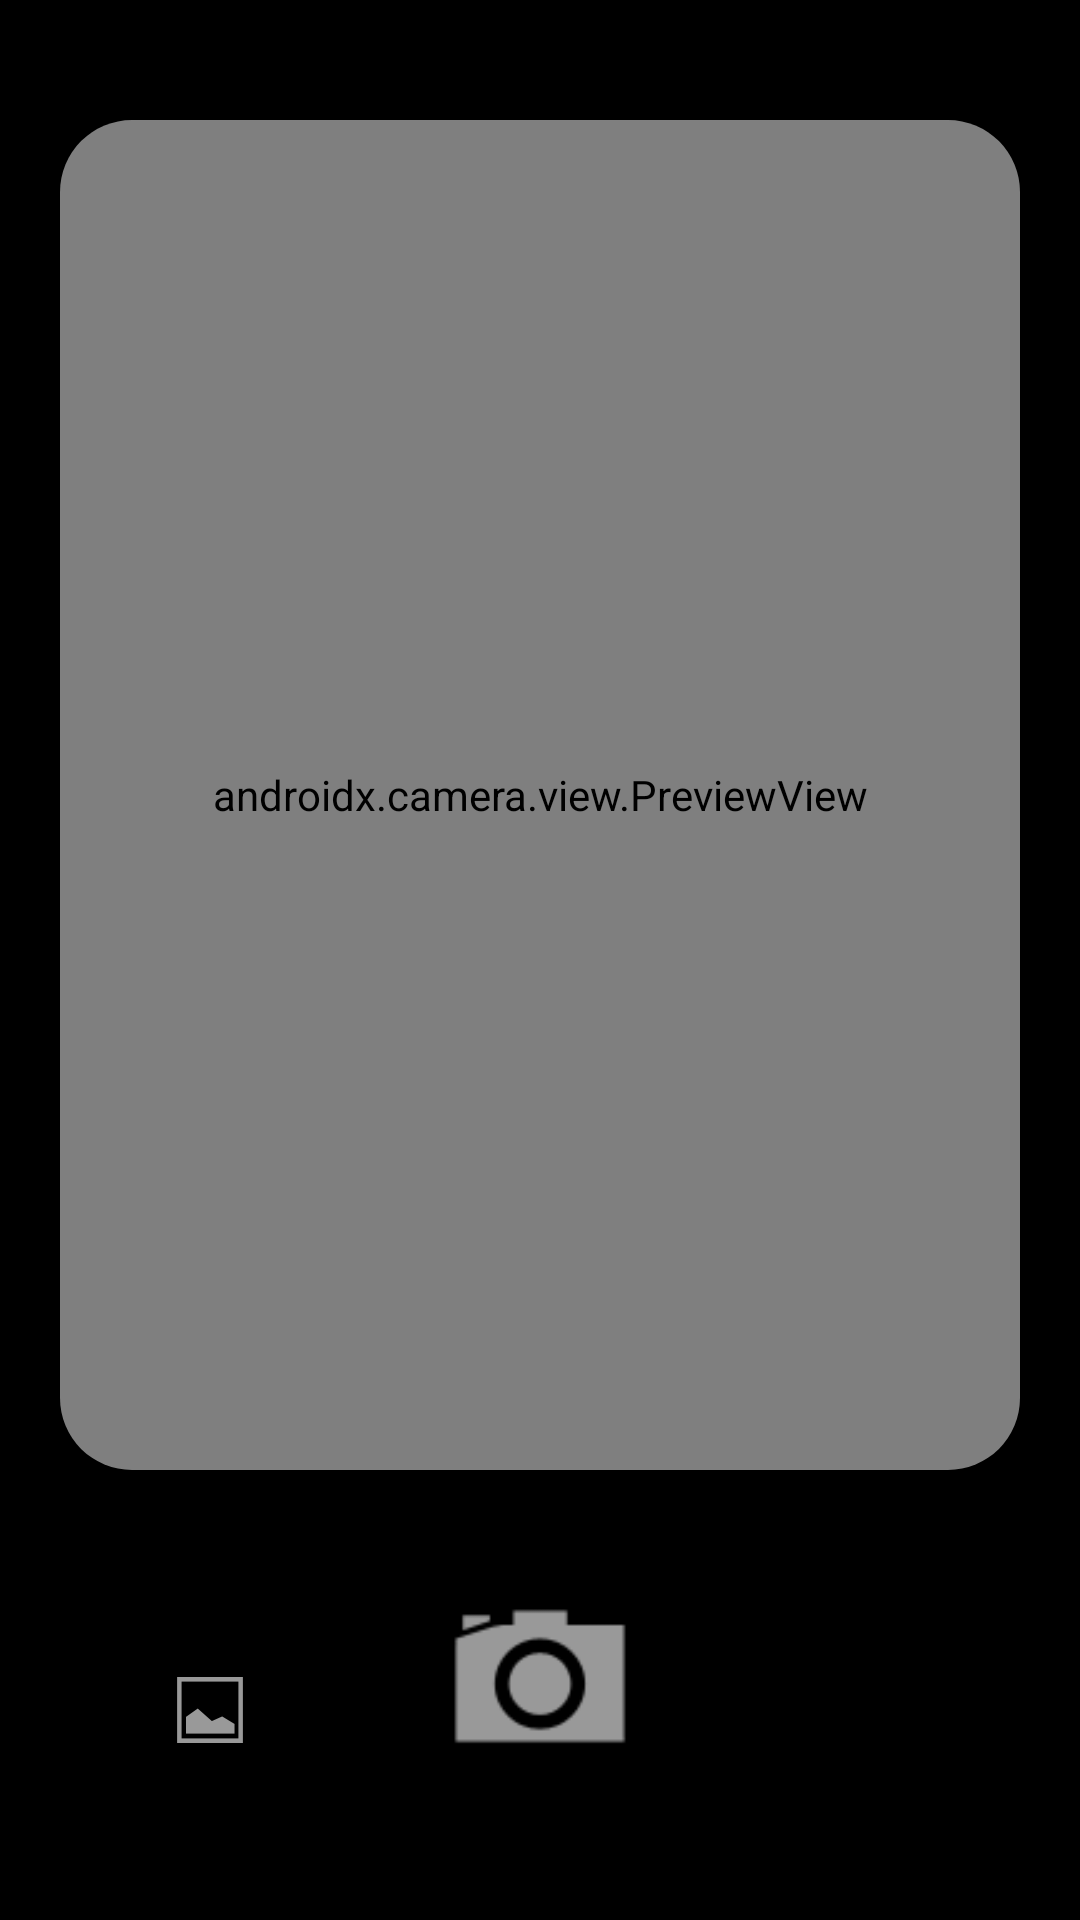

Named icons in this screenshot (1080x1920) and their bounding boxes, (x1, y1, x2, y2):
gallery: (177, 1677, 243, 1743)
